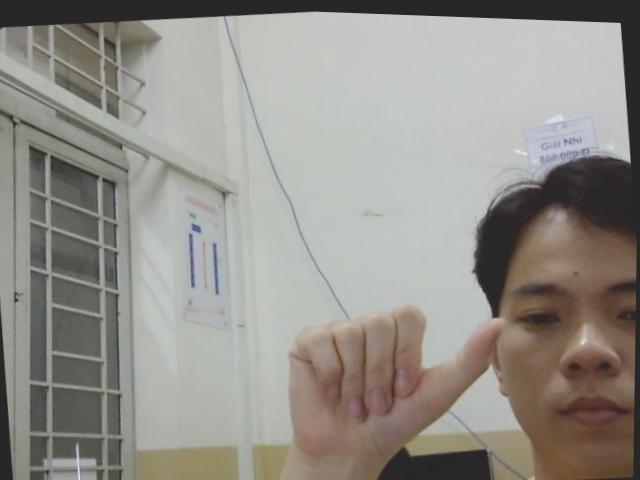A: (276, 287, 520, 453)
